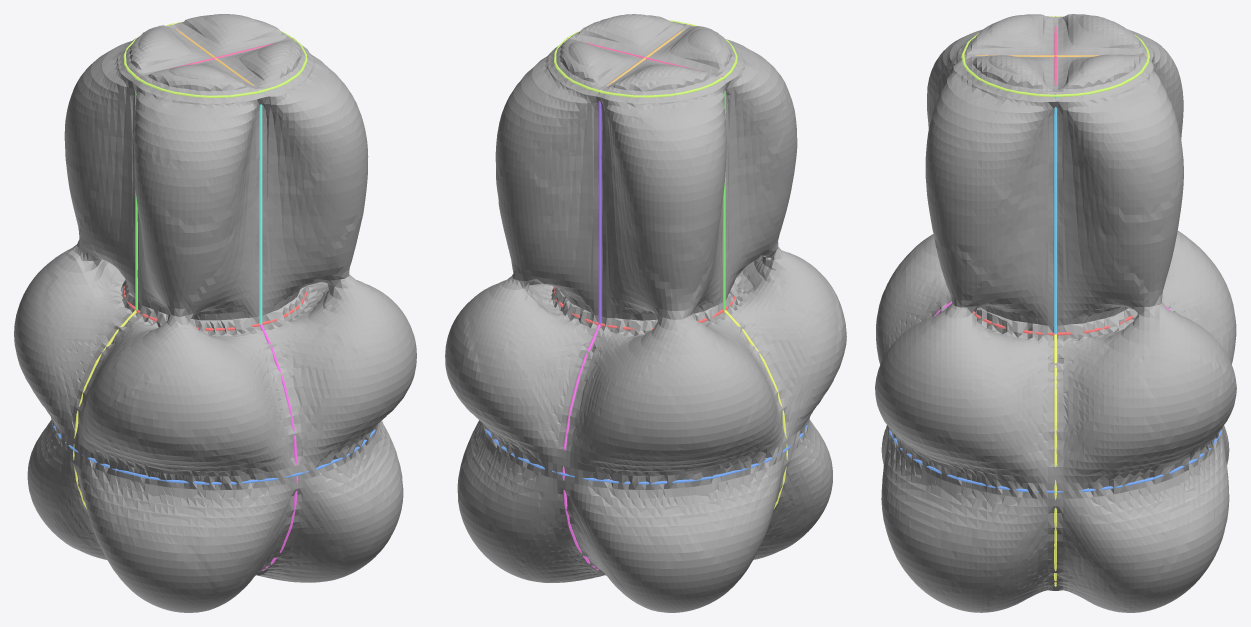
File: flowrep_spherecylinder.gltf
The picture shows the model from 3 angles, left to right: view 1: azimuth 30°, elevation 25°; view 2: azimuth 150°, elevation 25°; view 3: azimuth 270°, elevation 25°; orthographic projection. The views are drawn at different scales.
Size of the model in its own units: 0.4878 by 0.8035 by 0.4889.
